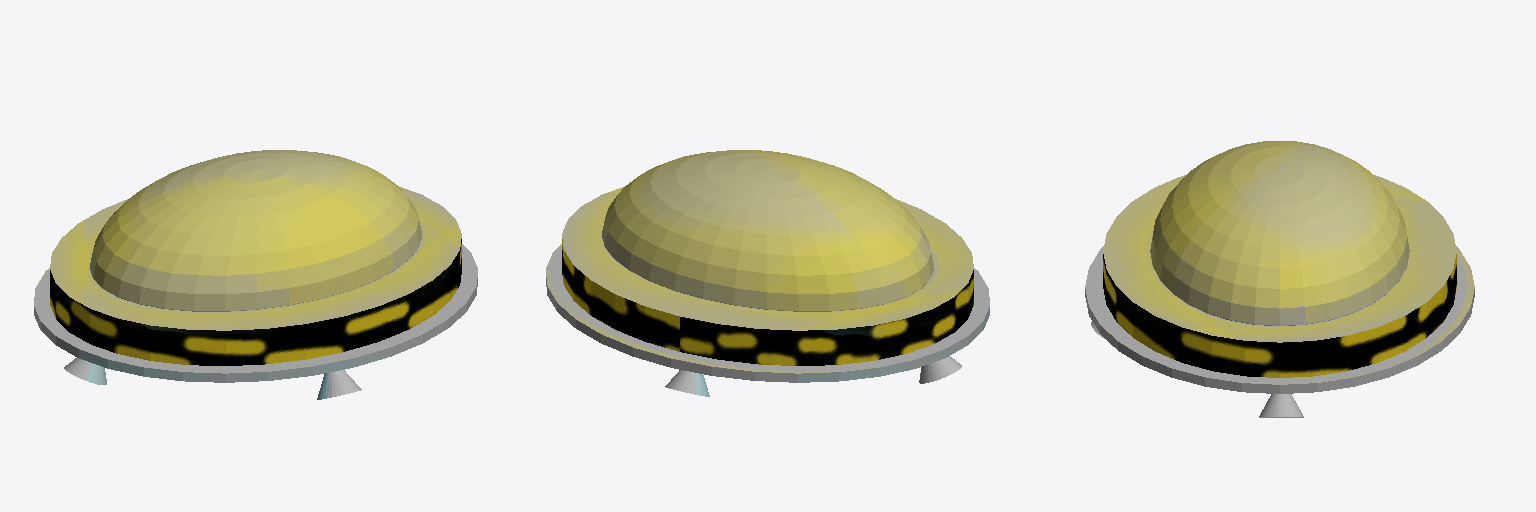
3 renders of one model, left to right at view 1: azimuth 30°, elevation 25°; view 2: azimuth 150°, elevation 25°; view 3: azimuth 270°, elevation 25°, orthographic.
Parts seen in each view (by area): view 1: 円錐.003; view 2: 円錐.003; view 3: 円錐.003.
Part boxes in pixels (x1,y1,x2,y2): 円錐.003: (34,150,477,399); 円錐.003: (546,150,989,396); 円錐.003: (1085,141,1474,417).
Size of the model in its own units: 16.4 by 6.77 by 13.82.
Materials: 1 (1 with a texture image).